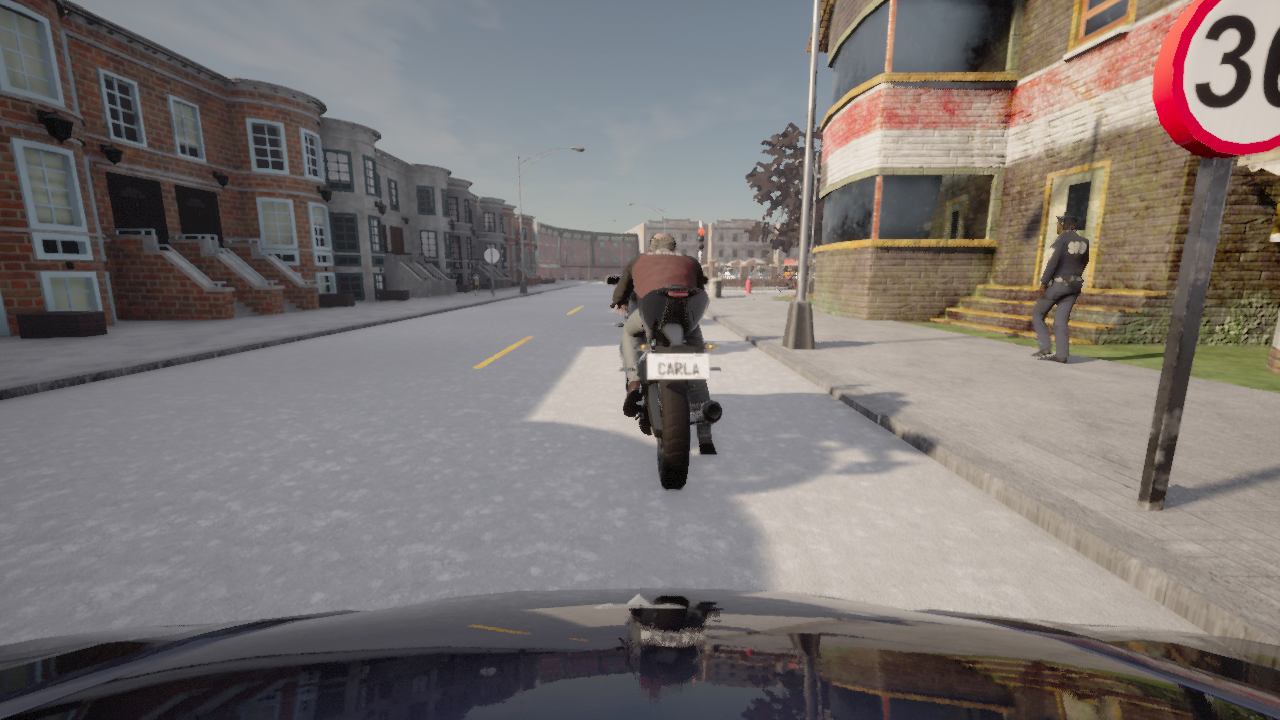cyclist: (0, 588, 1279, 719), (605, 274, 722, 488), (777, 277, 796, 292)
pedestrian: (1030, 214, 1090, 362), (484, 263, 496, 294), (472, 272, 479, 295)
